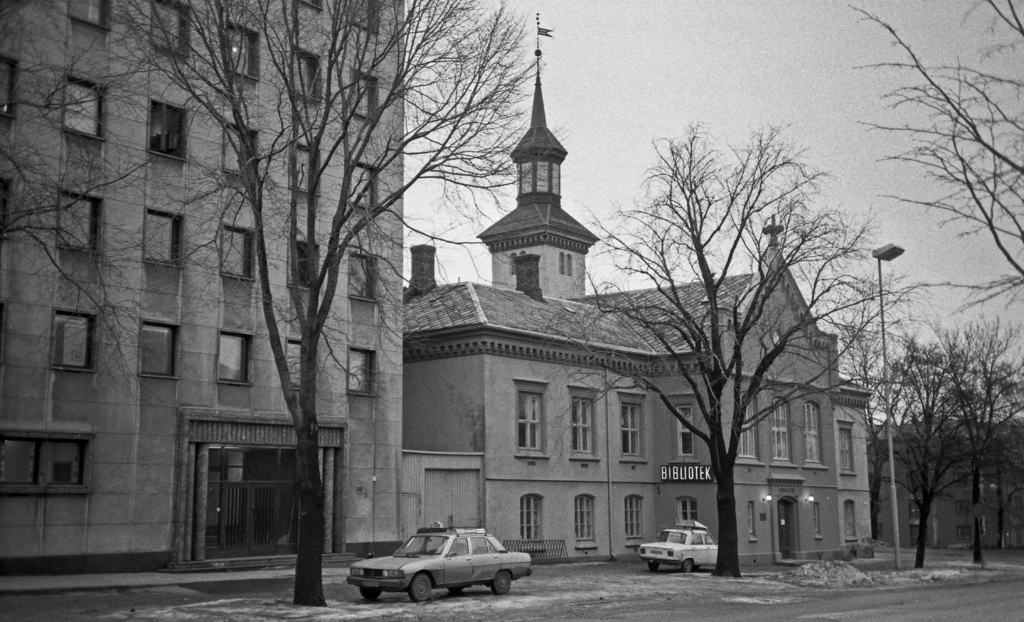Tree: (0, 0, 566, 604), (562, 110, 899, 569), (839, 231, 1023, 581), (831, 0, 1023, 293)
